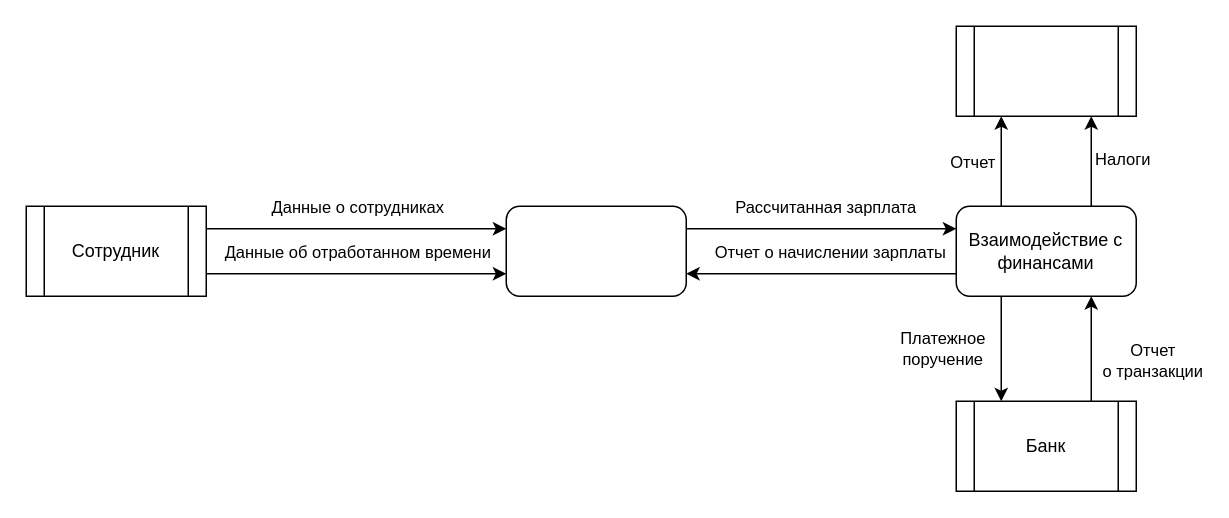
This 1229x518 diagram has some shape labels left out. Each missing label, with the box of its shape:
Взаимодействие с сотрудниками: (505, 205, 686, 296)
Налоговая: (955, 25, 1136, 116)
